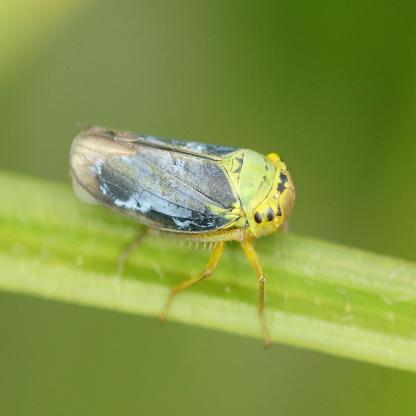Green-Leafhopper: (66, 121, 300, 346)
